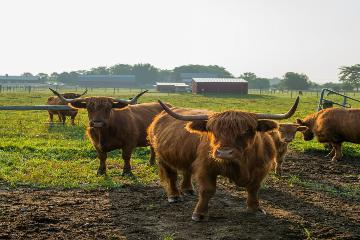cow: (165, 105, 268, 186), (81, 93, 133, 149), (296, 105, 360, 150), (44, 88, 78, 122), (276, 120, 299, 145)
